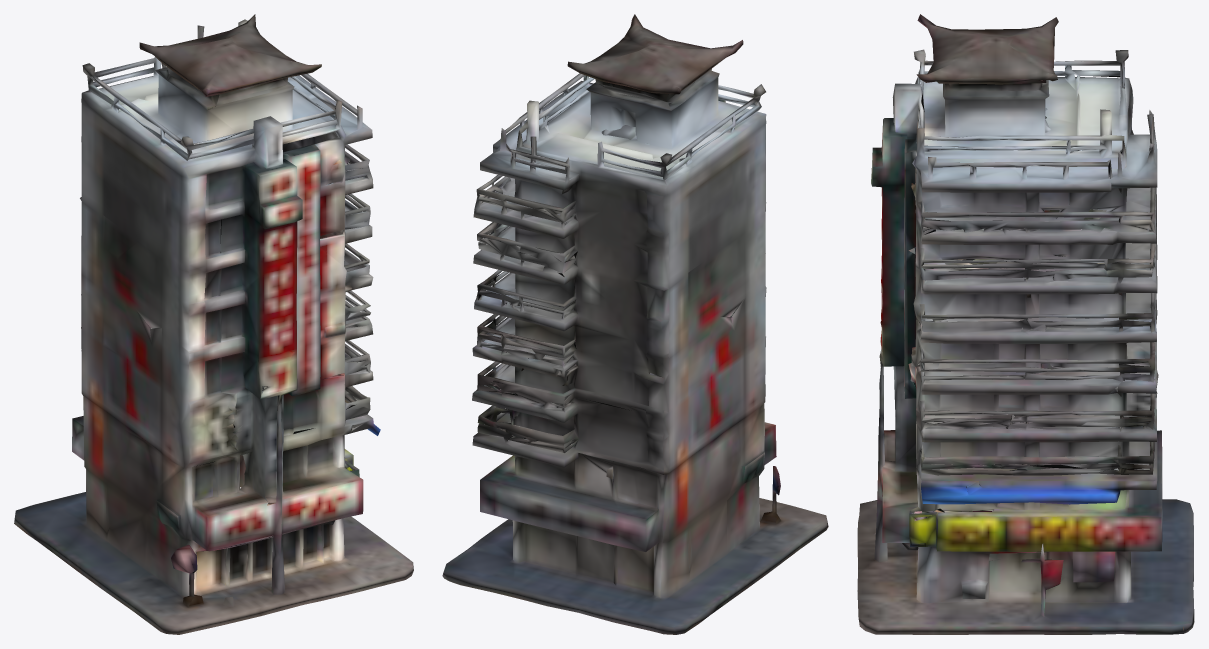
The model's file is bldg_zakkyo.glb.
3 renders of one model, left to right at view 1: azimuth 30°, elevation 25°; view 2: azimuth 150°, elevation 25°; view 3: azimuth 270°, elevation 25°, orthographic. The views are drawn at different scales.
Parts seen in each view (by area): view 1: bldg_zakkyo; view 2: bldg_zakkyo; view 3: bldg_zakkyo.
Part boxes in pixels (<box>): bldg_zakkyo: <box>14,14,413,634</box>; bldg_zakkyo: <box>442,14,828,634</box>; bldg_zakkyo: <box>857,14,1194,634</box>.
Bounding box in the file's own units: 14.53 × 28 × 16.14.
Materials: 1 (1 with a texture image).
